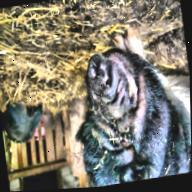boar: (48, 21, 192, 189), (0, 92, 47, 146)
